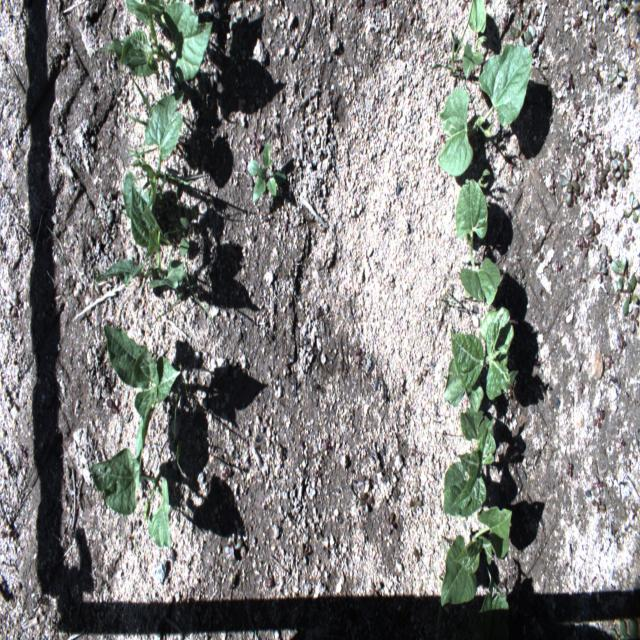crop: (438, 44, 535, 179), (103, 324, 180, 490), (94, 184, 185, 291), (104, 0, 214, 82), (123, 91, 190, 222), (90, 448, 174, 551), (443, 306, 520, 414), (440, 506, 511, 606), (442, 406, 497, 515), (456, 176, 501, 306), (465, 572, 512, 639), (462, 0, 486, 80)
weed: (154, 264, 216, 332), (246, 140, 286, 202), (431, 20, 468, 80), (123, 84, 159, 128), (509, 3, 538, 54), (557, 166, 580, 208), (178, 214, 195, 256), (624, 274, 638, 320), (607, 57, 626, 89), (611, 253, 626, 292), (617, 139, 633, 175), (584, 210, 600, 245), (623, 191, 639, 224), (593, 162, 607, 196), (613, 162, 630, 187), (602, 148, 618, 173), (593, 259, 608, 284), (591, 409, 605, 430)
